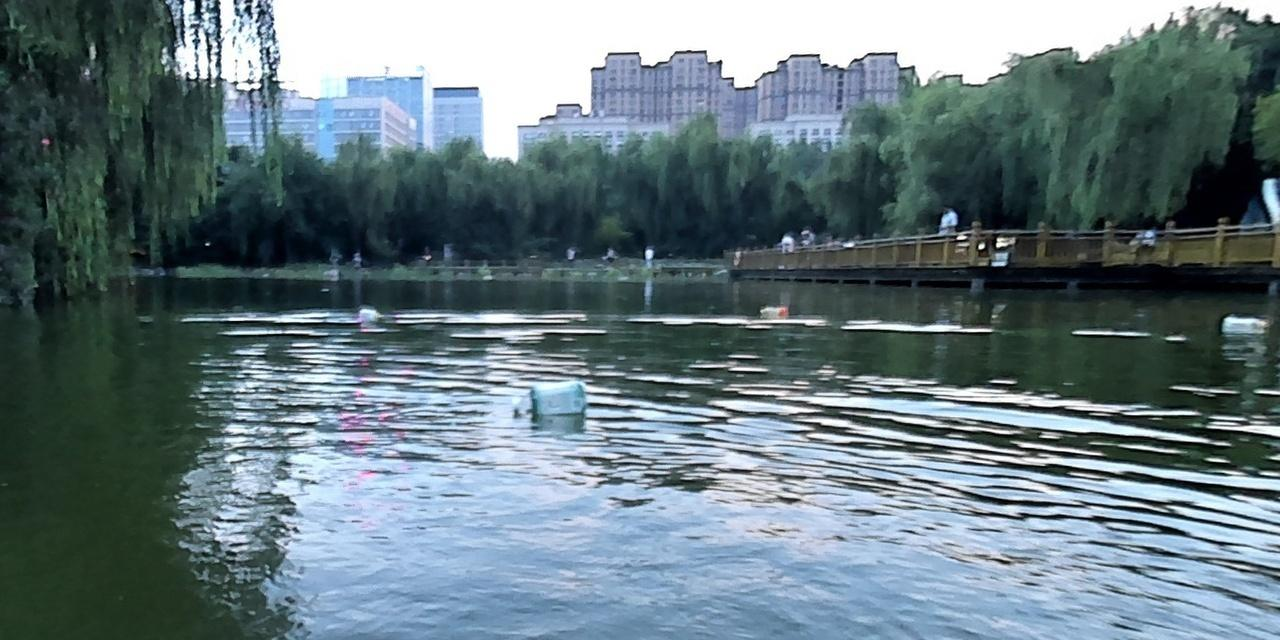bottle: (511, 381, 584, 418), (1220, 316, 1266, 333), (759, 303, 786, 320), (358, 308, 378, 322)
